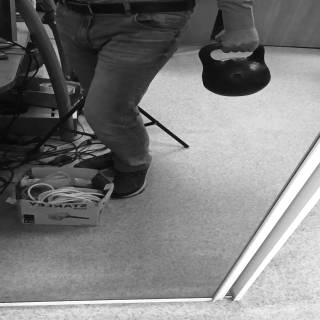kettlebell: (198, 43, 272, 98)
